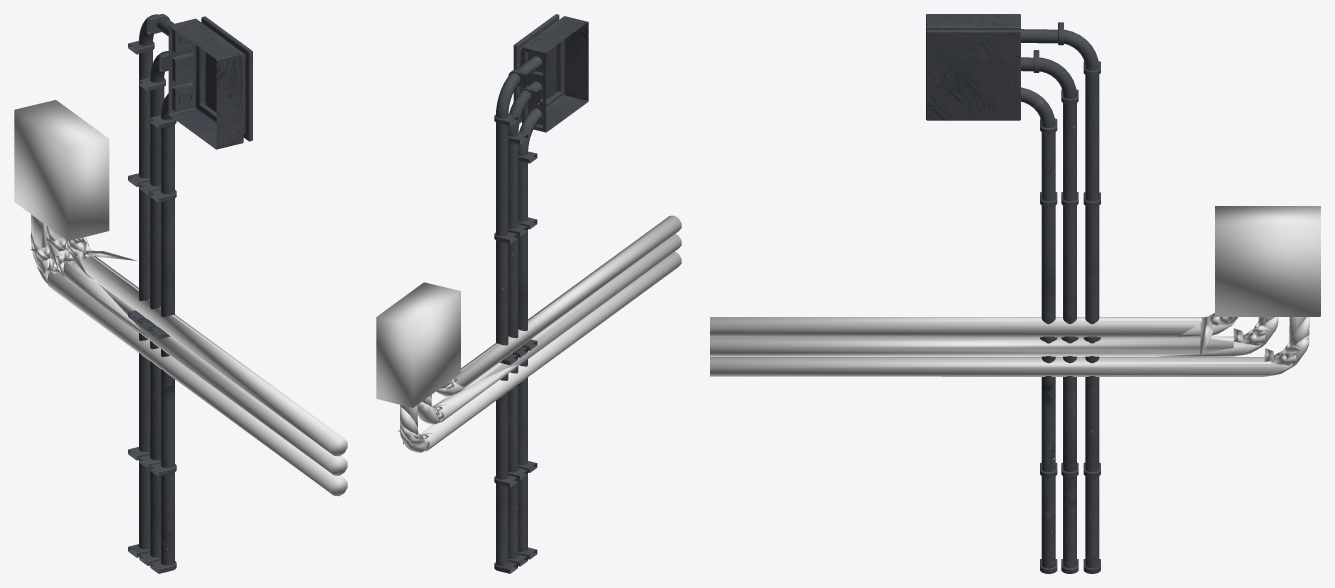
File: SM_CablesAssemblyWall_01.fbx
3 renders of one model, left to right at view 1: azimuth 30°, elevation 25°; view 2: azimuth 150°, elevation 25°; view 3: azimuth 270°, elevation 25°, orthographic. The views are drawn at different scales.
Visible parts, largest first — view 1: SM_CablesAssemblyWall_01_ConvexHulls, SM_CablesAssemblyWall_01; view 2: SM_CablesAssemblyWall_01_ConvexHulls, SM_CablesAssemblyWall_01; view 3: SM_CablesAssemblyWall_01_ConvexHulls, SM_CablesAssemblyWall_01.
Boxes of the visible parts, x1,y1,x2,y2 form: SM_CablesAssemblyWall_01_ConvexHulls: (14,100,347,496); SM_CablesAssemblyWall_01: (128,14,252,573); SM_CablesAssemblyWall_01_ConvexHulls: (376,215,681,452); SM_CablesAssemblyWall_01: (494,14,588,573); SM_CablesAssemblyWall_01_ConvexHulls: (710,206,1320,376); SM_CablesAssemblyWall_01: (926,14,1100,573).
Size of the model in its own units: 0.1221 by 1.04 by 1.05.
